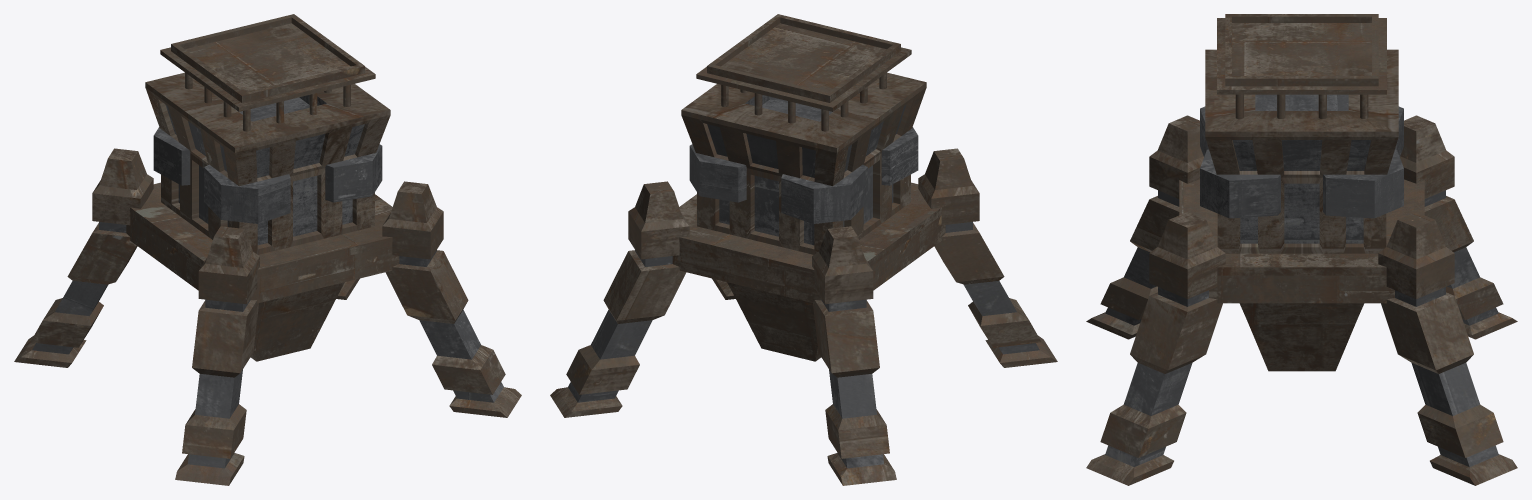
File: smelter.gltf
The picture shows the model from 3 angles, left to right: view 1: azimuth 30°, elevation 25°; view 2: azimuth 150°, elevation 25°; view 3: azimuth 270°, elevation 25°; orthographic projection. The views are drawn at different scales.
Visible parts, largest first — view 1: Cube; view 2: Cube; view 3: Cube.
Boxes of the visible parts, box(x1,y1,x2,y2) form: Cube: box(14, 14, 521, 485); Cube: box(550, 14, 1057, 485); Cube: box(1086, 14, 1517, 485).
Size of the model in its own units: 10.39 by 9.26 by 10.4.
2 materials, 2 textured.
